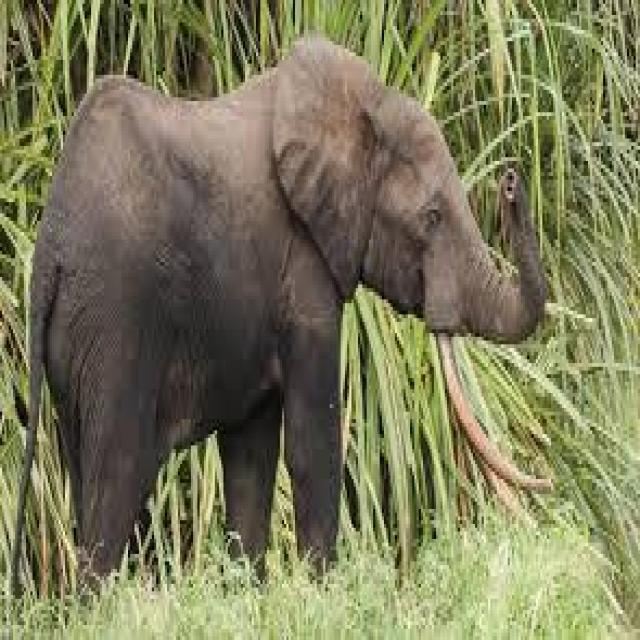Elephant: (29, 34, 542, 572)
